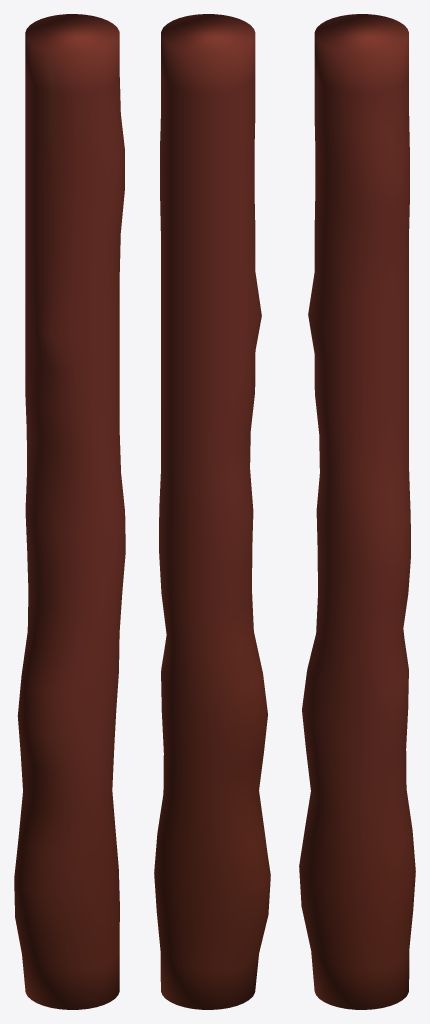
File: Tree Bark.fbx
3 renders of one model, left to right at view 1: azimuth 30°, elevation 25°; view 2: azimuth 150°, elevation 25°; view 3: azimuth 330°, elevation 25°, orthographic.
Parts seen in each view (by area): view 1: Tree Bark Prefab; view 2: Tree Bark Prefab; view 3: Tree Bark Prefab.
Part boxes in pixels (left/top/right/bottom): Tree Bark Prefab: left=14, top=14, right=125, bottom=1009; Tree Bark Prefab: left=154, top=14, right=270, bottom=1009; Tree Bark Prefab: left=299, top=14, right=415, bottom=1009.
Size of the model in its own units: 246 by 2228 by 205.
